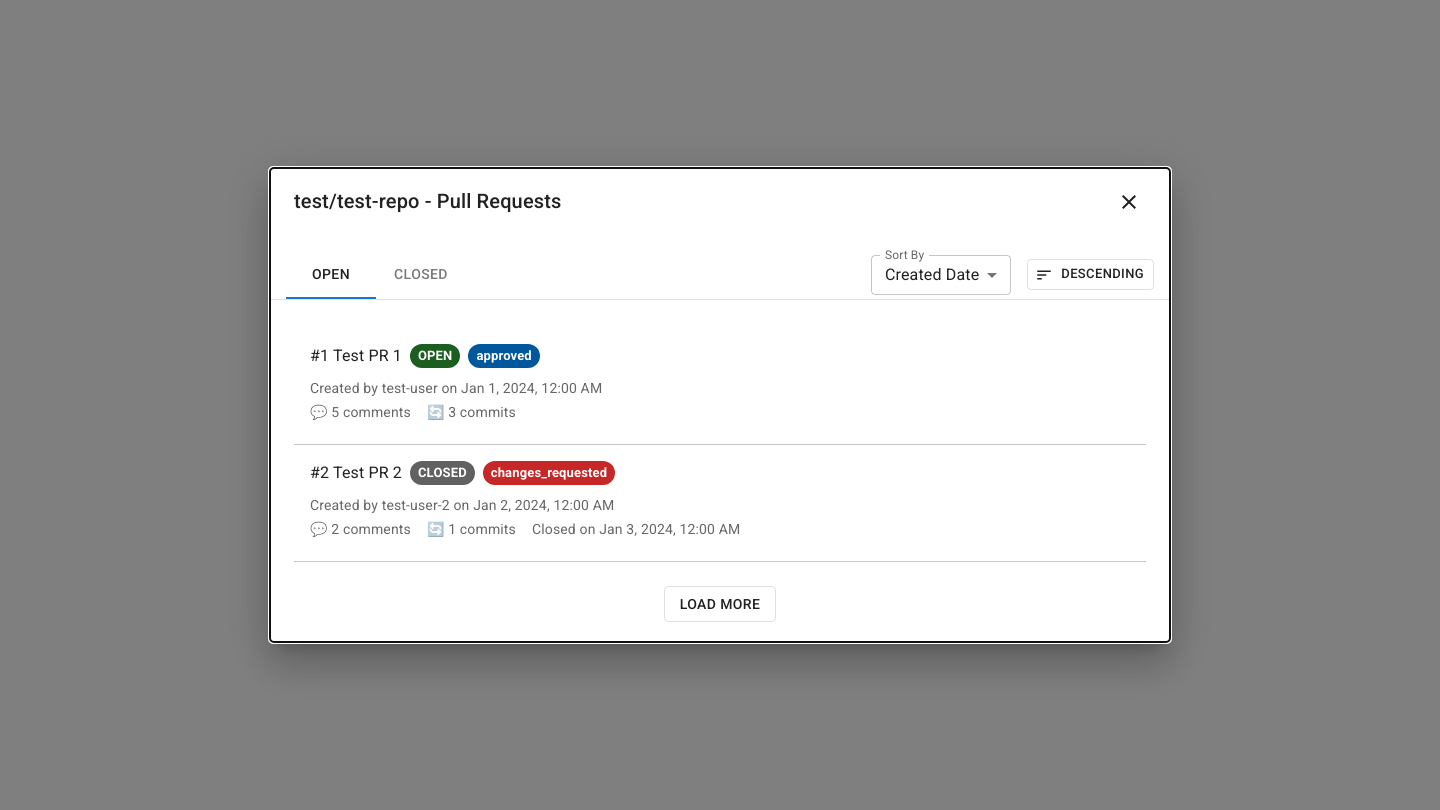
RepoDetailsModal › handles load more
Expected: the heading "#1 Test PR 1" is shown, x1=310 y1=342 x2=402 y2=370
# Click load more button
Click the button "Load More".
click(720, 604)  # box x1=664 y1=586 x2=776 y2=622
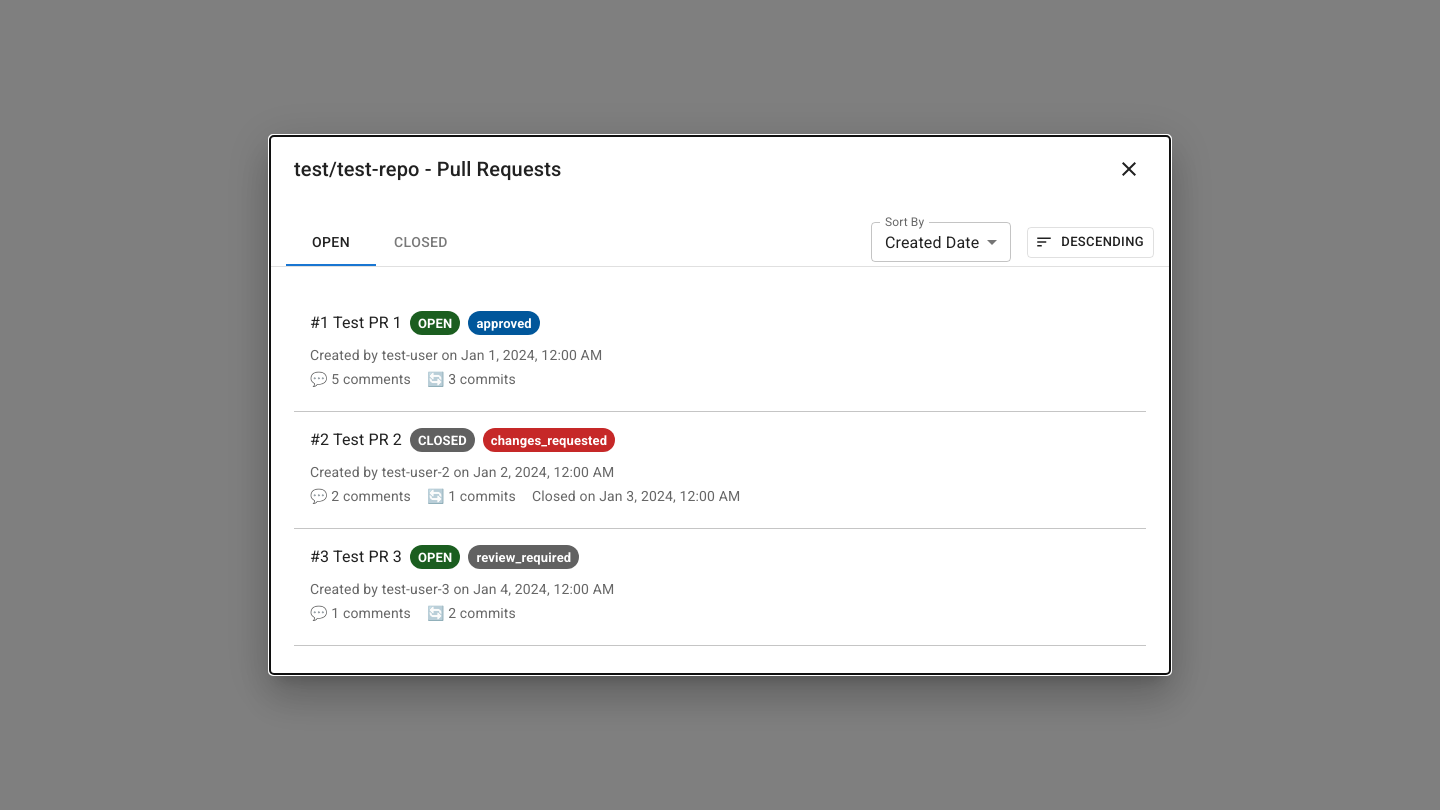
Now the heading "#3 Test PR 3" is shown, box x1=310 y1=543 x2=402 y2=571
